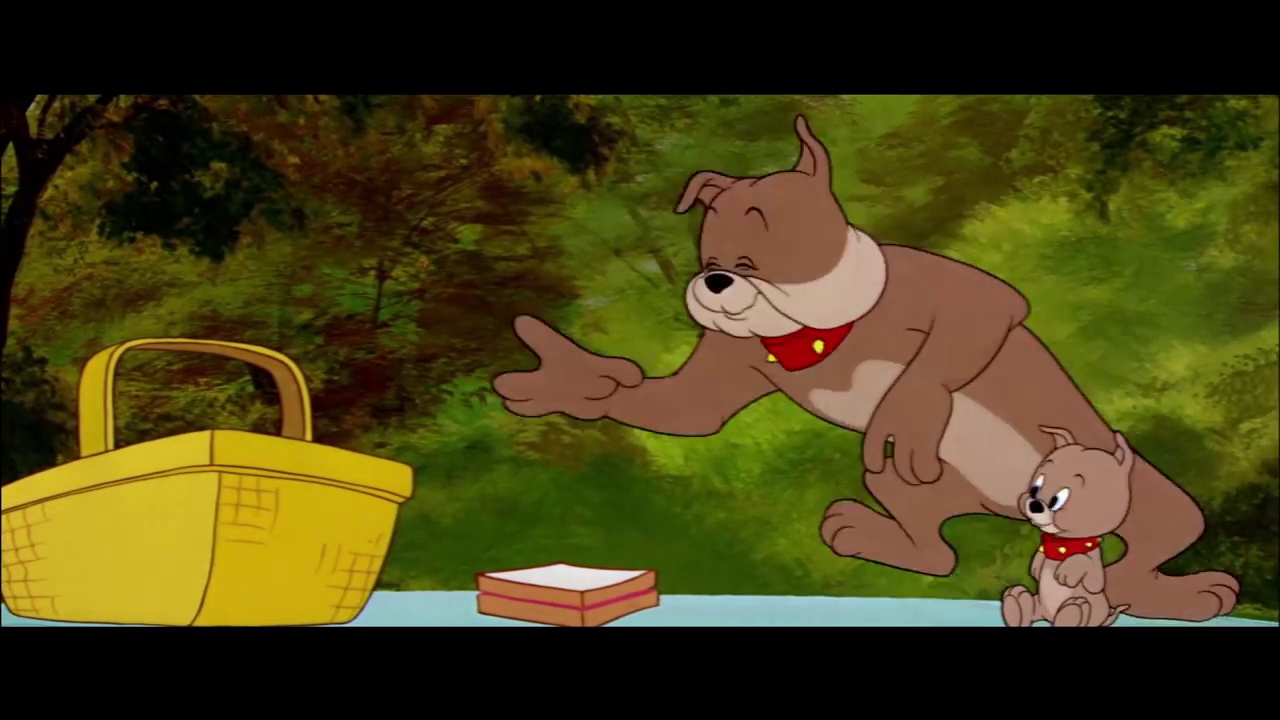spike: (662, 111, 887, 377)
